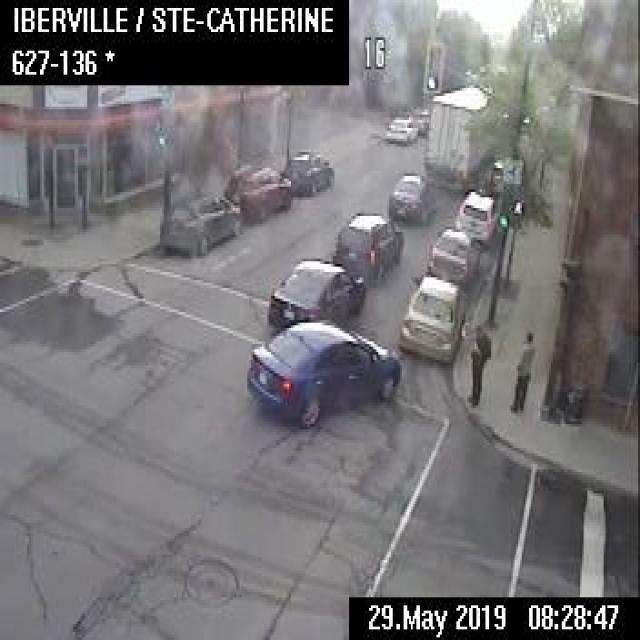pedestrian: (508, 330, 536, 410), (467, 320, 489, 403)
vehicle: (244, 317, 402, 427), (267, 256, 365, 331), (423, 84, 494, 186), (398, 272, 468, 359), (158, 190, 242, 257), (331, 210, 402, 282), (221, 162, 290, 219), (427, 224, 481, 284), (453, 188, 496, 248), (388, 170, 435, 224), (284, 149, 333, 191), (385, 116, 417, 140), (407, 107, 429, 130)
